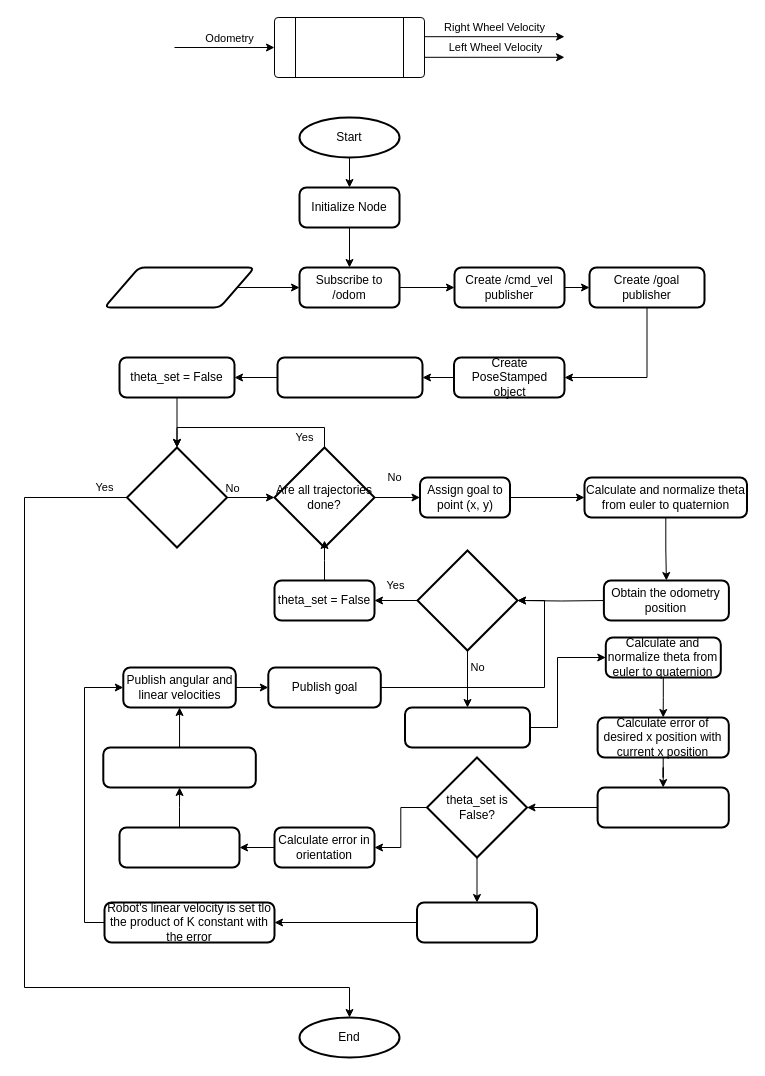
The diagram is 765 pixels wide and 1076 high, and some of its shapes have lost their labels. The centre of each missing label's shape, as x and y in pixels:
Are desired x and y points reached?: the point at 467,600
Calculate error of desired y position with current y position: the point at 662,807
Calculate euclidian error distance: the point at 477,922
Callback Odometry: the point at 179,287
Controller: the point at 349,47
Define P constants and trajectories: the point at 349,377
If error is minimal, theta is set to False: the point at 179,847
Obtain the current odometry position: the point at 467,727
Robot's angular velocity is set tlo the product of K constant with the error: the point at 179,767
ROS is shutdown?: the point at 177,497
